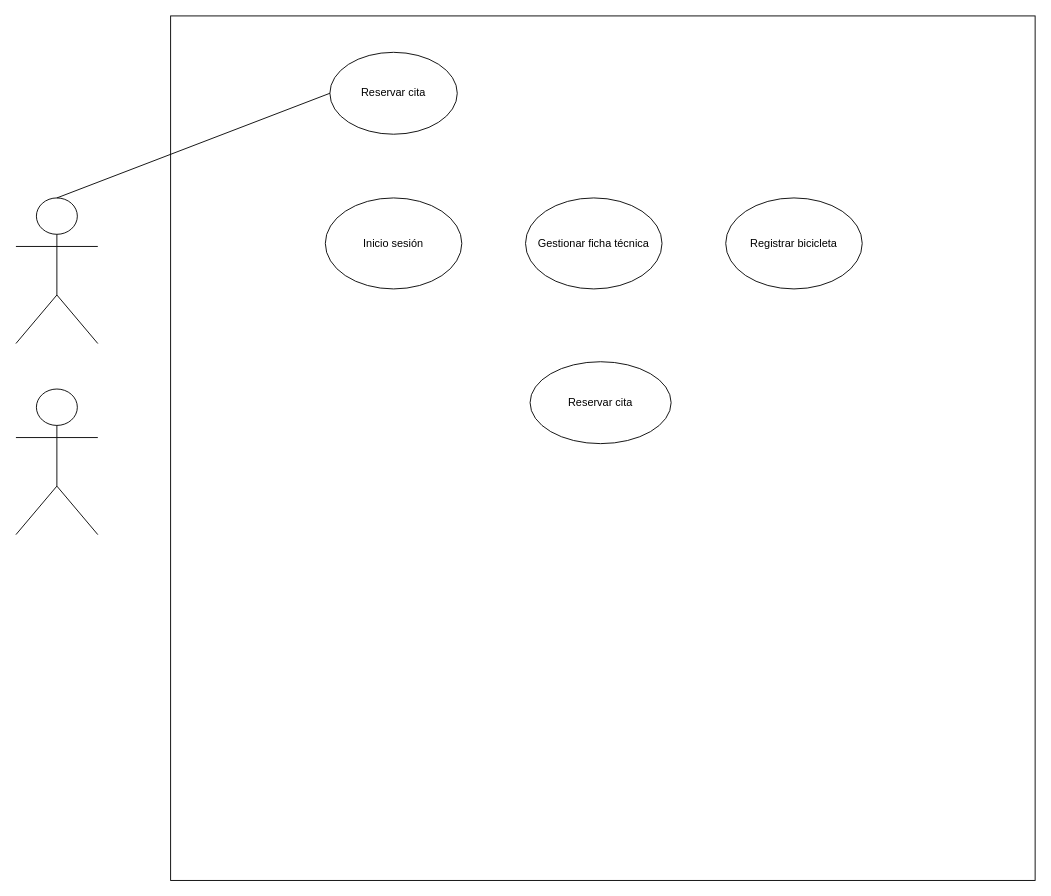
Image size: 1051x896. Some labels were removed from this diagram. Each missing label, with the centre of its shape:
"Tecnico" belongs at point (56, 461).
"Usuario" belongs at point (56, 270).
